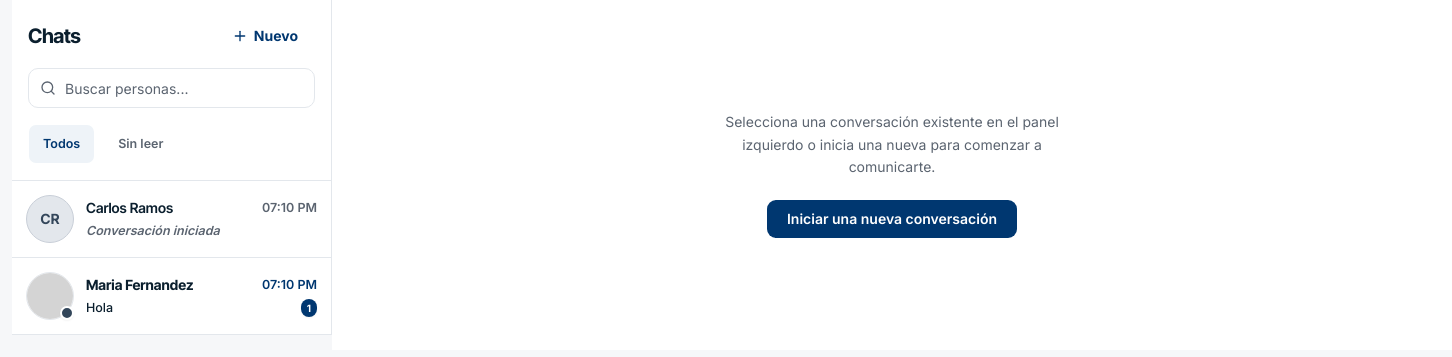
Test: ChatView & ChatPage › debe renderizar la conversación seleccionada sin foto mostrando desconectado
Click the heading "Carlos Ramos" at (130, 208), box [86,198,173,218]
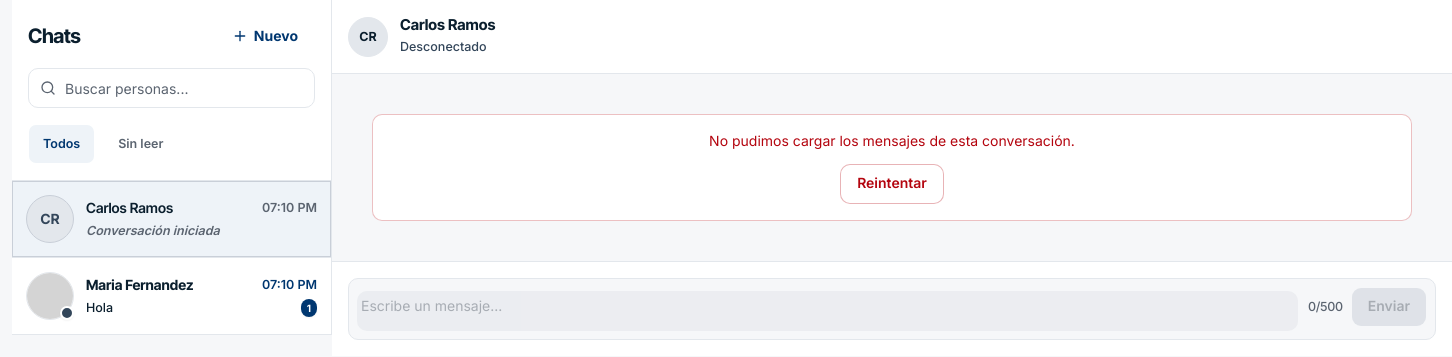
Now the text "Desconectado" is shown, box [400,39,487,54]
